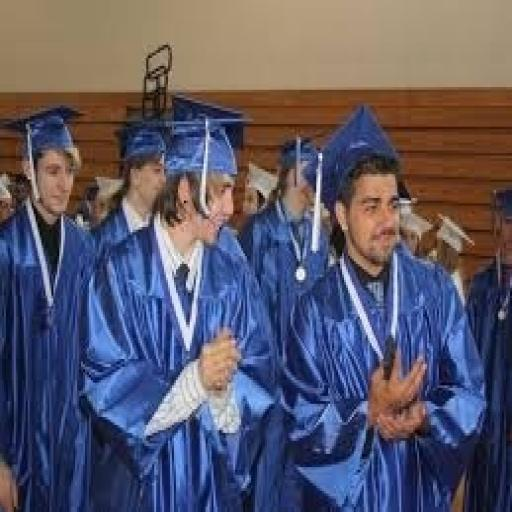clapping: (0, 92, 492, 510)
